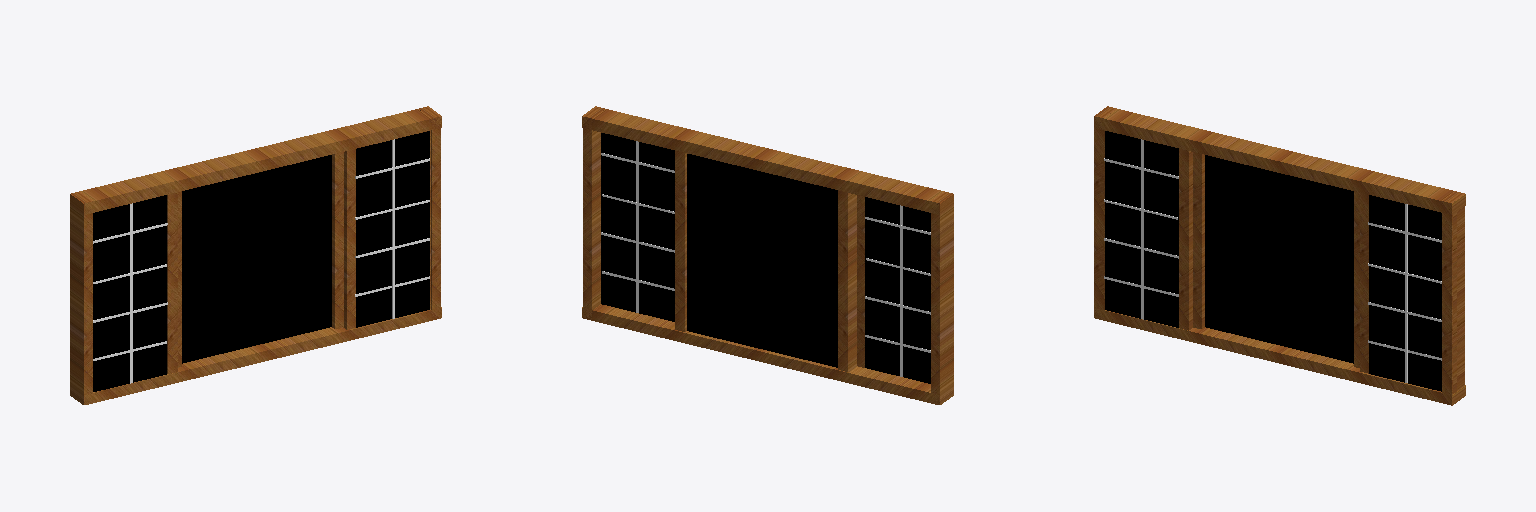
3 views of the same model, side by side, from view 1: azimuth 30°, elevation 25°; view 2: azimuth 150°, elevation 25°; view 3: azimuth 330°, elevation 25° (orthographic).
Parts seen in each view (by area): view 1: sweethome3d_window_pane1, sweethome3d_window_pane3, sweethome3d_window_pane2, Cube_3_2, Cube_3_1, Cube_3_3, Cube_5_2, Cube_5_1, Cube_3_4, Cube_5_4, Cube_5, Cube_6_1 (+1 smaller); view 2: sweethome3d_window_pane1, sweethome3d_window_pane2, sweethome3d_window_pane3, Cube_3_2, Cube_3_1, Cube_3_3, Cube_3_4, Cube_5, Cube_5_1, Cube_5_4; view 3: sweethome3d_window_pane1, sweethome3d_window_pane3, sweethome3d_window_pane2, Cube_3_2, Cube_3_1, Cube_3_4, Cube_5_4, Cube_5, Cube_3_3, Cube_5_2, Cube_5_1, Cube_5_3 (+2 smaller).
Boxes of the visible parts, box(x1,y1,x2,y2) form: sweethome3d_window_pane1: box(182, 155, 331, 363); sweethome3d_window_pane3: box(93, 195, 166, 391); sweethome3d_window_pane2: box(356, 131, 429, 327); Cube_3_2: box(80, 106, 441, 214); Cube_3_1: box(85, 307, 441, 404); Cube_3_3: box(70, 191, 92, 404); Cube_5_2: box(344, 149, 355, 329); Cube_5_1: box(332, 152, 343, 328); Cube_3_4: box(419, 106, 440, 318); Cube_5_4: box(167, 192, 177, 373); Cube_5: box(178, 191, 181, 367); Cube_6_1: box(130, 203, 132, 383); sweethome3d_window_pane1: box(687, 154, 837, 367); sweethome3d_window_pane2: box(601, 133, 674, 321); sweethome3d_window_pane3: box(865, 197, 930, 383); Cube_3_2: box(582, 106, 943, 214); Cube_3_1: box(582, 304, 938, 404); Cube_3_3: box(931, 191, 953, 404); Cube_3_4: box(583, 106, 604, 319); Cube_5: box(838, 190, 856, 371); Cube_5_1: box(675, 151, 686, 331); Cube_5_4: box(857, 195, 864, 367); sweethome3d_window_pane1: box(1205, 155, 1353, 363); sweethome3d_window_pane3: box(1105, 131, 1178, 327); sweethome3d_window_pane2: box(1369, 195, 1441, 391); Cube_3_2: box(1095, 109, 1465, 214); Cube_3_1: box(1095, 308, 1465, 405); Cube_3_4: box(1442, 191, 1464, 394); Cube_5_4: box(1179, 149, 1192, 330); Cube_5: box(1193, 152, 1204, 328); Cube_3_3: box(1094, 106, 1116, 317); Cube_5_2: box(1360, 193, 1368, 373); Cube_5_1: box(1354, 191, 1359, 367); Cube_5_3: box(1453, 212, 1456, 393).
Bounding box in the file's own units: 4.46 × 2.41 × 0.2933.
3 materials, 1 textured.